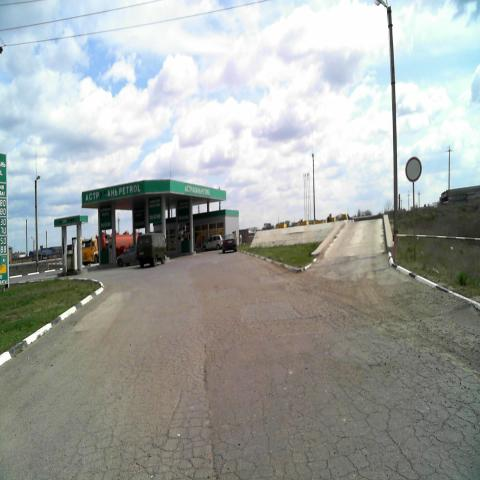3_2: (405, 156, 422, 184)
